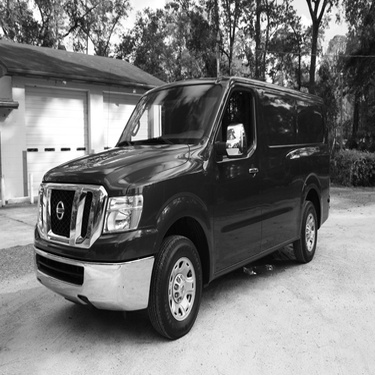car: (29, 61, 336, 344)
